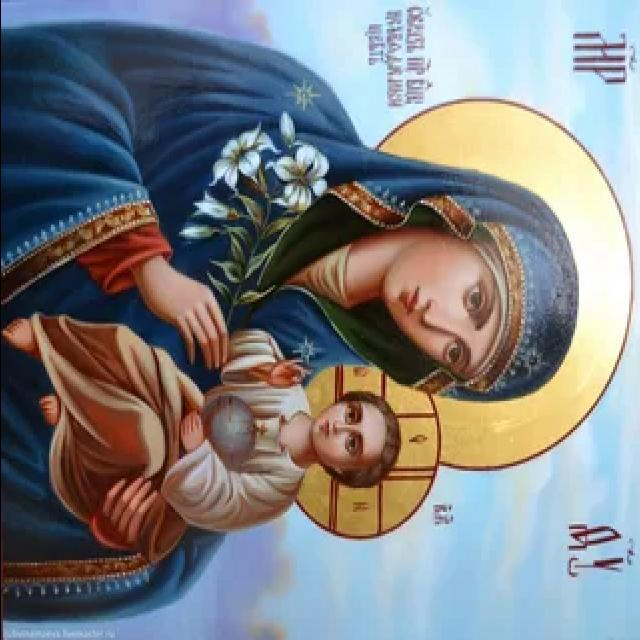mother of god: (0, 21, 582, 640)
